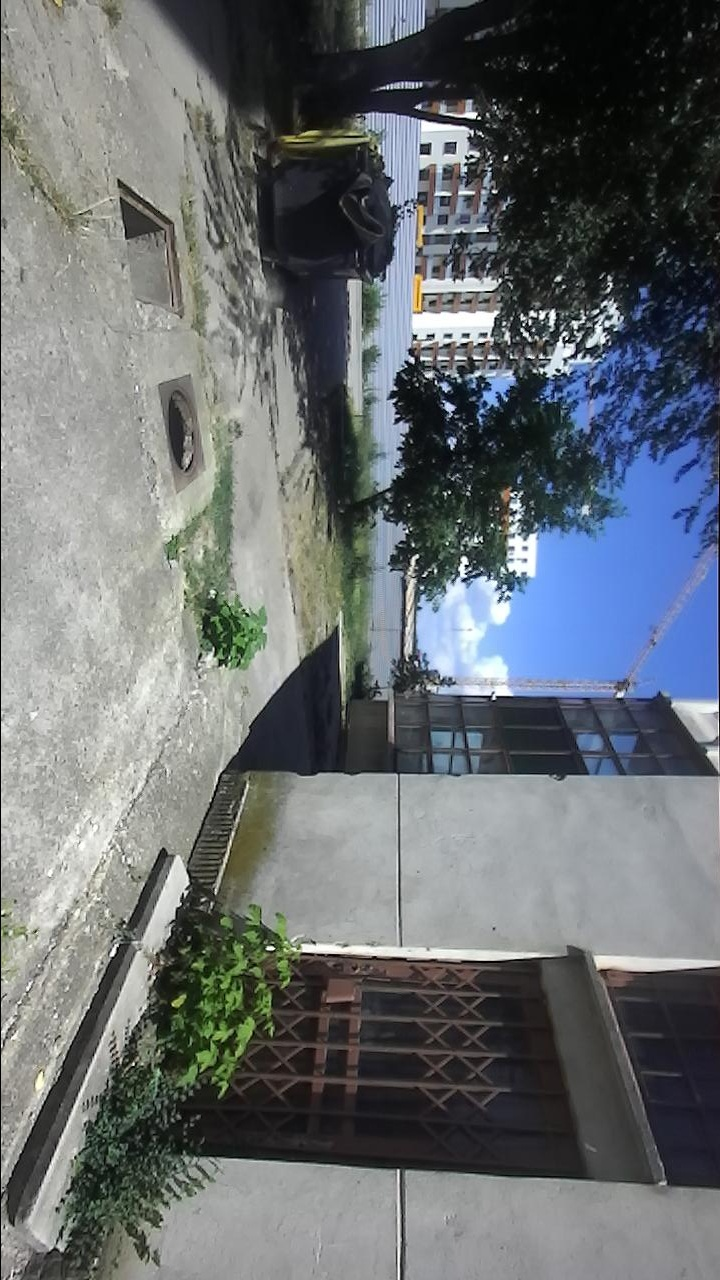drain: (110, 175, 188, 321), (165, 387, 200, 479)
